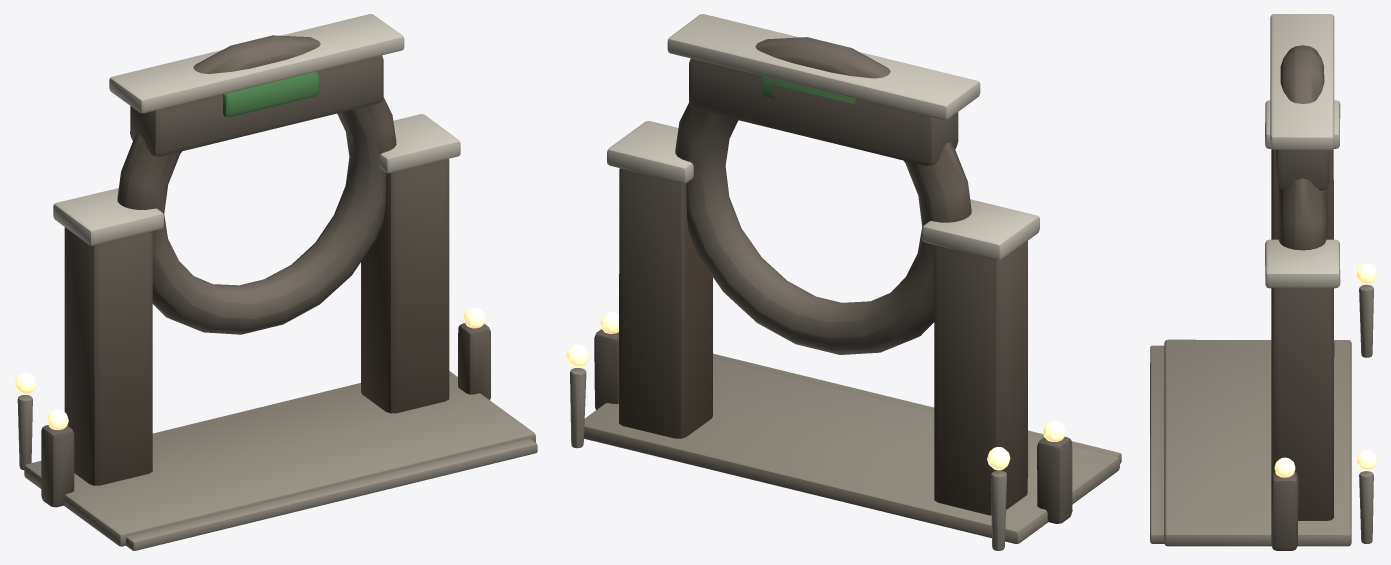
3 views of the same model, side by side, from view 1: azimuth 30°, elevation 25°; view 2: azimuth 150°, elevation 25°; view 3: azimuth 270°, elevation 25° (orthographic). The views are drawn at different scales.
Parts seen in each view (by area): view 1: gate_ecfba476; view 2: gate_ecfba476; view 3: gate_ecfba476.
Boxes of the visible parts, <box> form: gate_ecfba476: <box>14,14,537,550</box>; gate_ecfba476: <box>566,14,1121,550</box>; gate_ecfba476: <box>1150,14,1376,550</box>.
Bounding box in the file's own units: 5.5 × 4.82 × 2.54.
